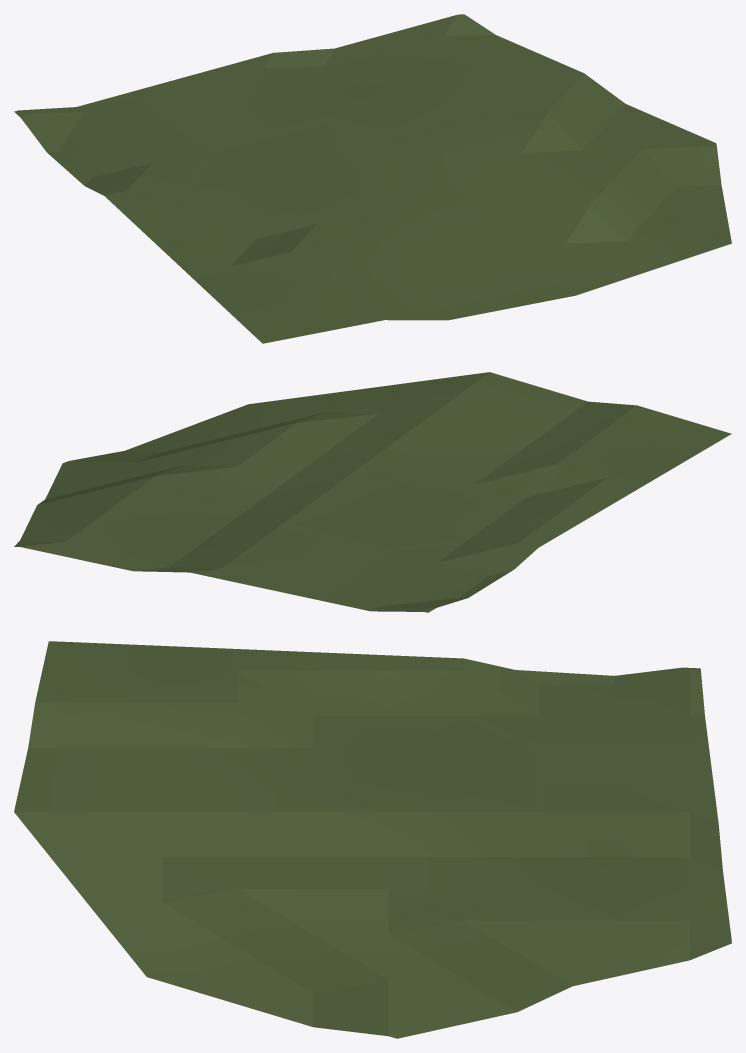
The model's file is campa.glb.
3 renders of one model, top to bottom at view 1: azimuth 30°, elevation 25°; view 2: azimuth 150°, elevation 25°; view 3: azimuth 270°, elevation 25°, orthographic. The views are drawn at different scales.
Parts seen in each view (by area): view 1: oca:campa; view 2: oca:campa; view 3: oca:campa.
Part boxes in pixels (x1,y1,x2,y2): oca:campa: (14, 14, 731, 343); oca:campa: (14, 372, 731, 612); oca:campa: (14, 641, 731, 1038).
Bounding box in the file's own units: 51.13 × 5.74 × 47.68.
